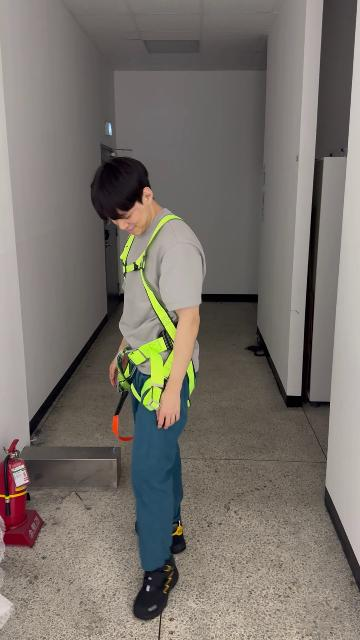helmet_not_worn: (92, 158, 155, 218)
shoe_worn: (133, 559, 178, 620), (170, 520, 186, 553)
vest_worn: (115, 215, 199, 406)
